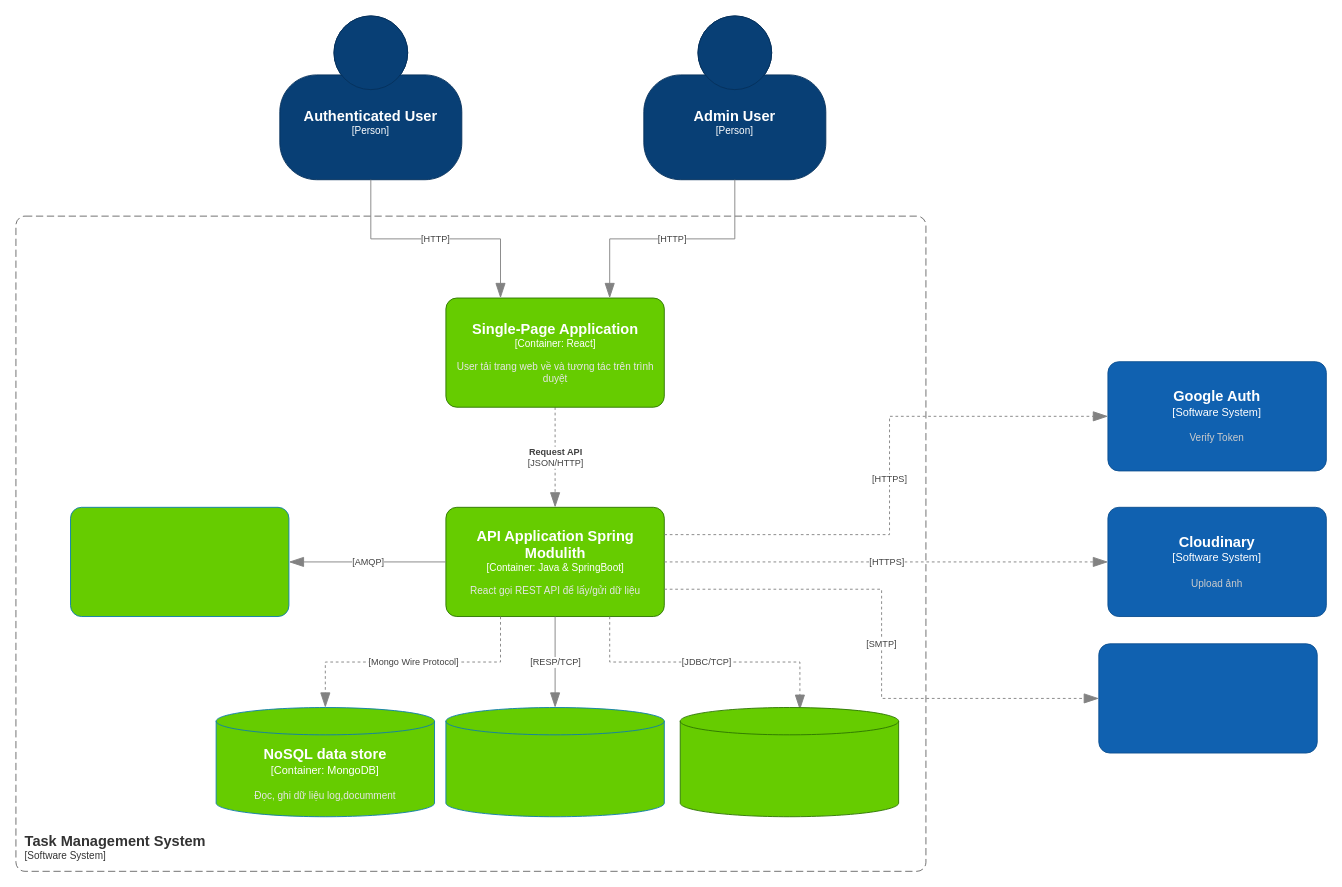
Image size: 1342x887. Some labels were removed from this diagram. The centre of each missing label's shape, as x and y in pixels:
"Cache [Container: Redis] Cache dữ liệu hay dùng, check token blacklist" belongs at [554,762].
"Message Docker [Container: RabbitMQ]" belongs at [179,561].
"Peronal SMTP Server [Software System]" belongs at [1207,698].
"Relational Database [Container: PostpreSQl] Đọc, ghi dữ liệu user,task" belongs at [789,762].
